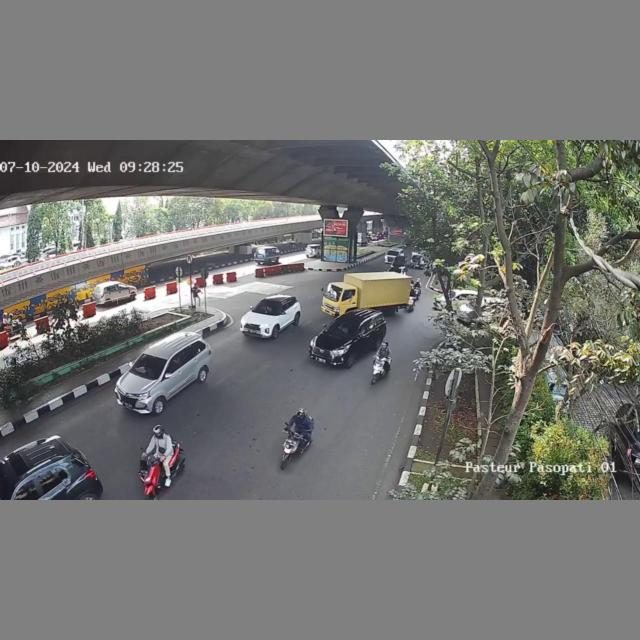windshield: (130, 351, 170, 380), (326, 318, 361, 341), (252, 300, 288, 315)
